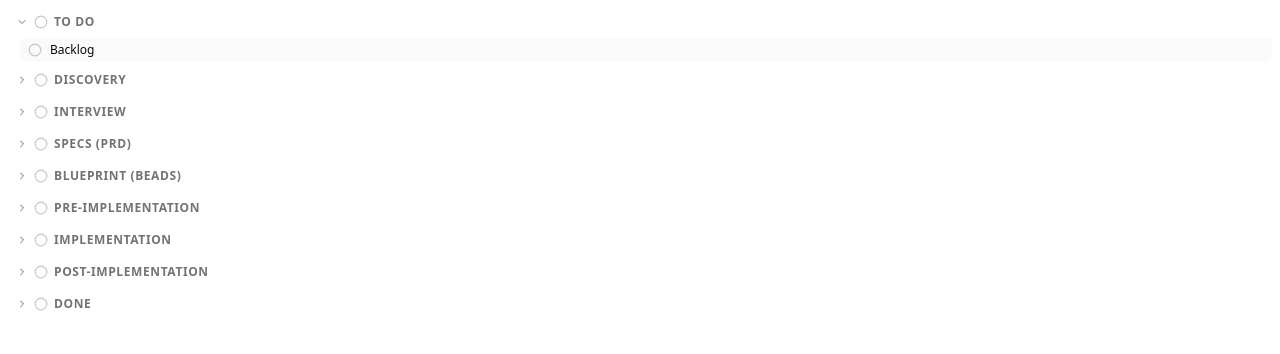
Test: PhaseTimeline › disables future phases
Note: Expand Implementation group to see Coding
Click the button "Implementation" at (113, 240), box [8, 226, 1272, 254]
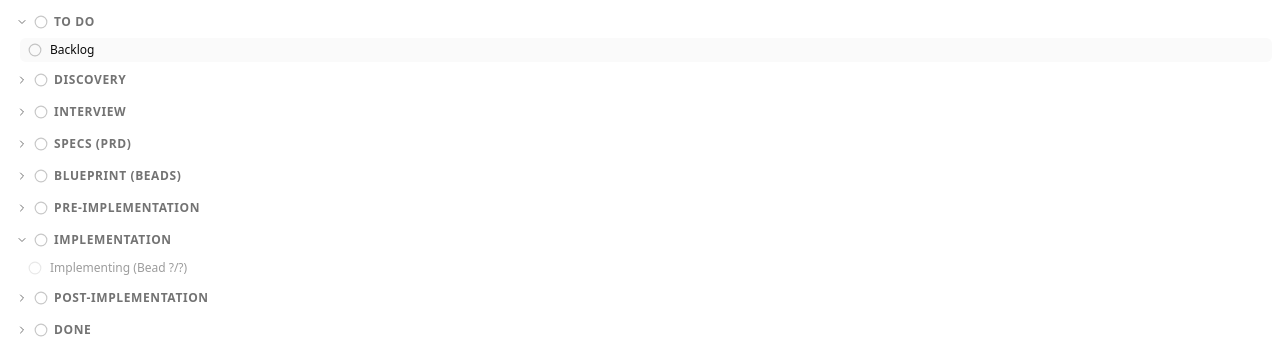
Check: the button "Implementing (Bead ?/?)" is disabled, box [20, 256, 1272, 280]
